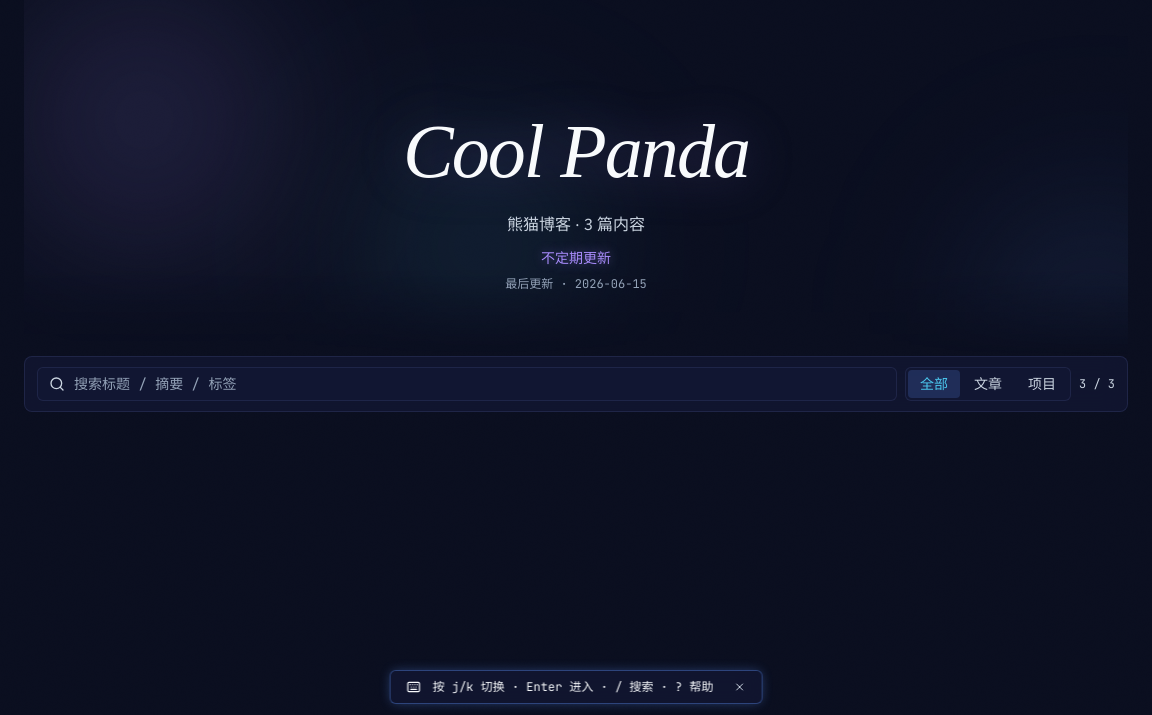
Test: Home 搜索过滤（与分类正交） › type 切到「文章」只剩文章卡片（隐藏项目）
The width and height of the screenshot is (1152, 715).
Click the button "文章". click: (988, 384)
box: left=962, top=370, right=1014, bottom=398
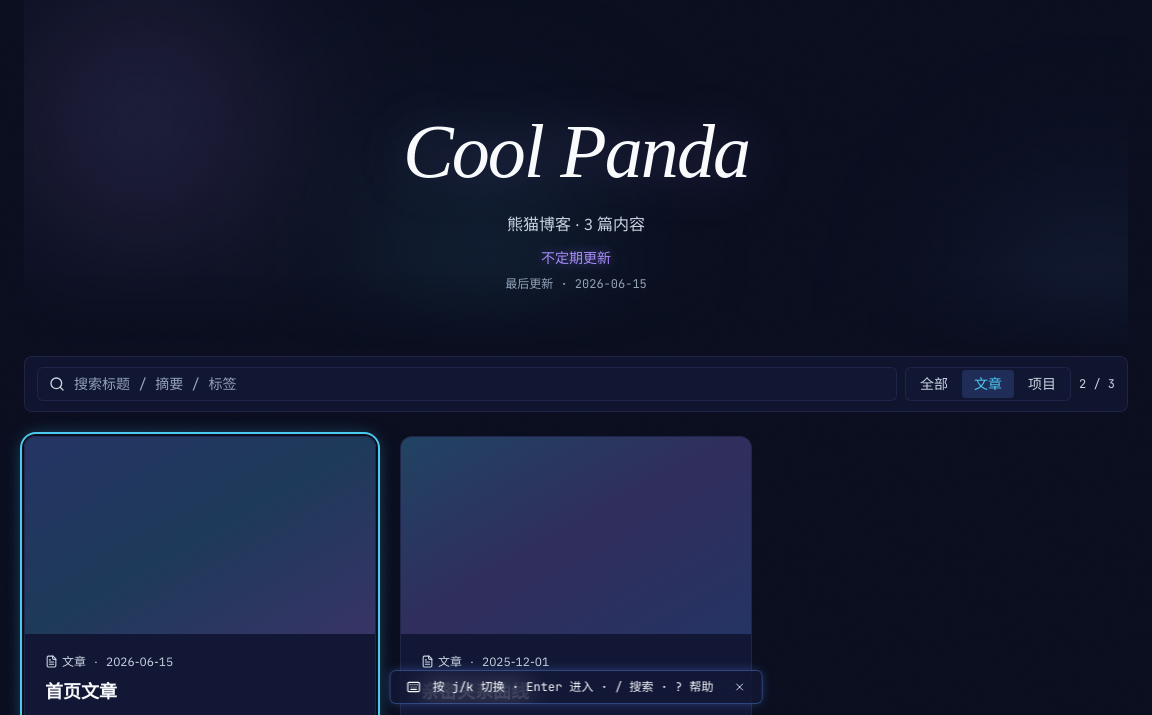
Now the heading "首页文章" is shown, box left=45, top=680, right=117, bottom=703
Now the heading "亲密关系曲线" is shown, box left=421, top=680, right=529, bottom=703
